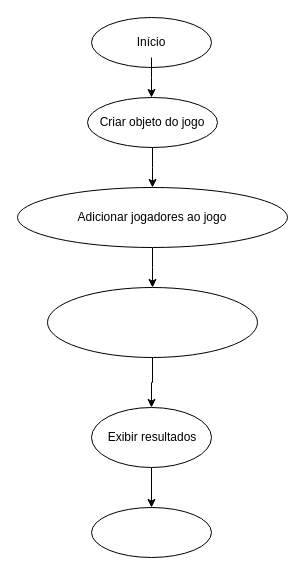
Image size: 305x575. Some labels were removed from this diagram. Each missing label, with the centre of its shape:
"Fim" belongs at point 151,532.
"Registrar pontuação dos jogadores" belongs at point 152,322.
